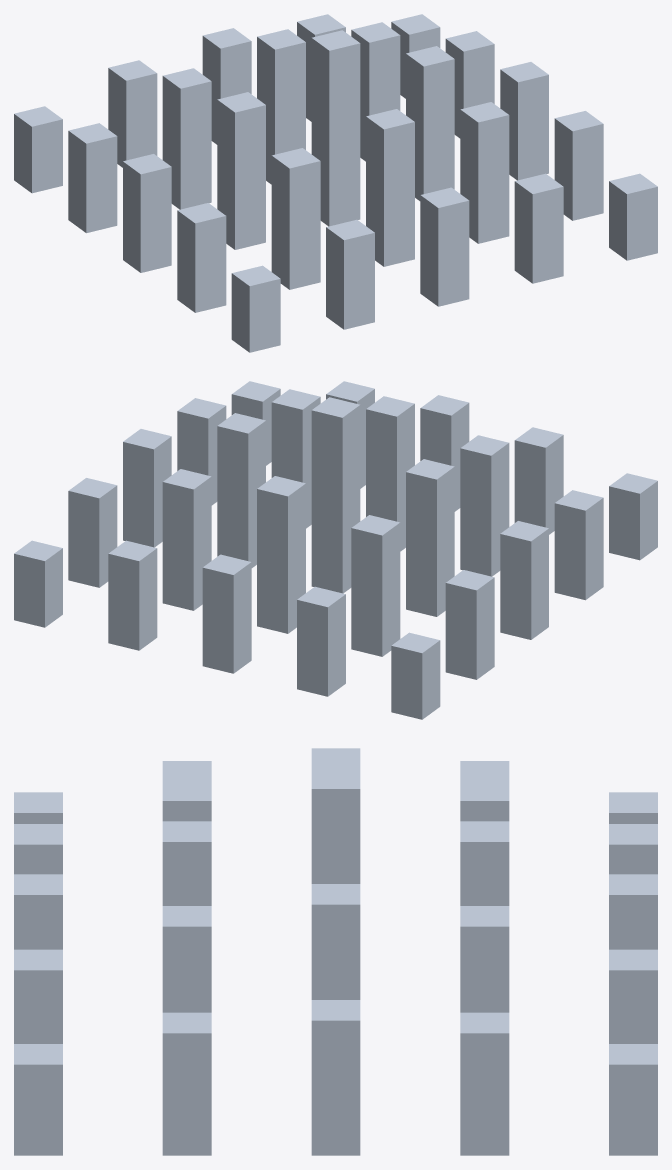
File: buildings.glb
3 views of the same model, one above another, from view 1: azimuth 30°, elevation 25°; view 2: azimuth 150°, elevation 25°; view 3: azimuth 270°, elevation 25° (orthographic). The views are drawn at different scales.
Bounding box in the file's own units: 606 × 250 × 606.
